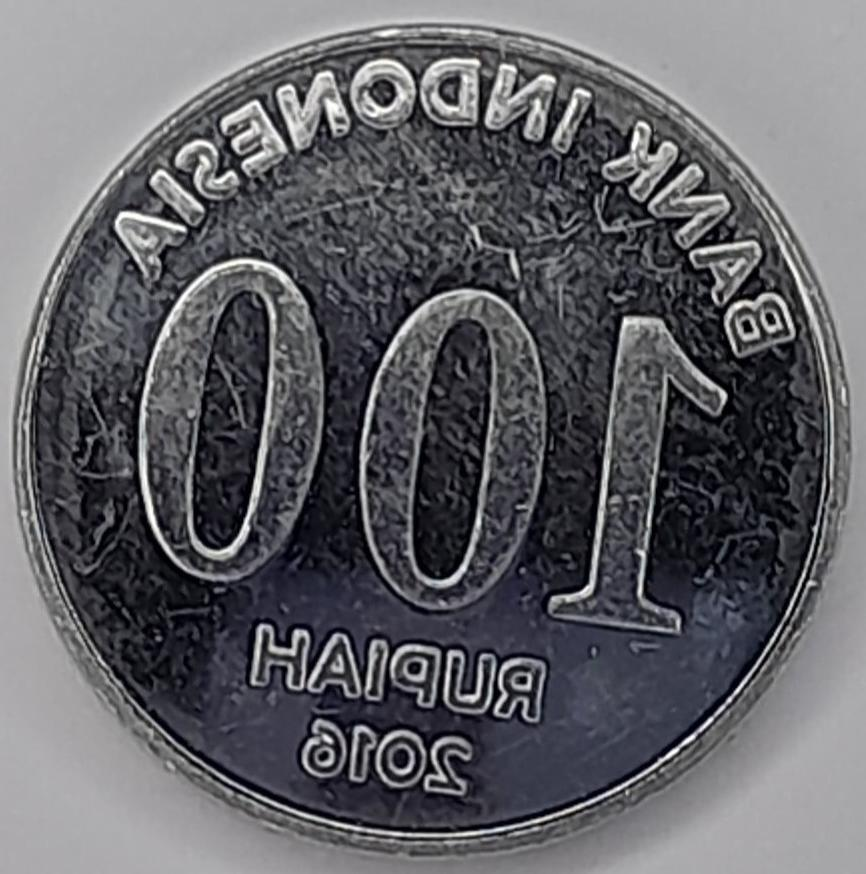coin_100_e2016: (7, 16, 856, 859)
